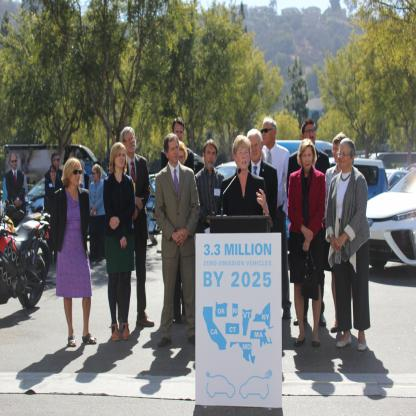Car: (286, 158, 387, 248), (368, 162, 413, 282), (24, 175, 48, 216), (386, 170, 413, 189), (217, 162, 238, 183)
